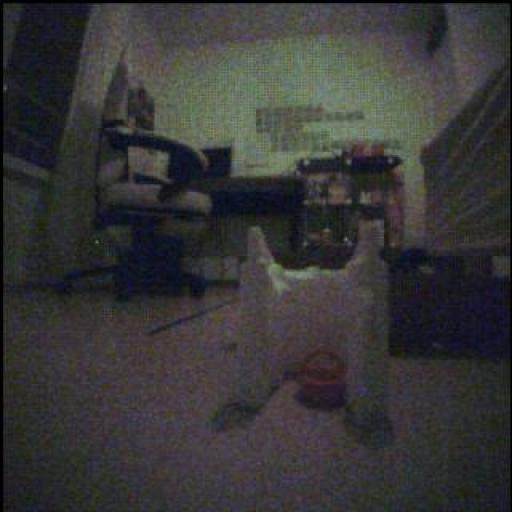basket: (299, 352, 347, 411)
